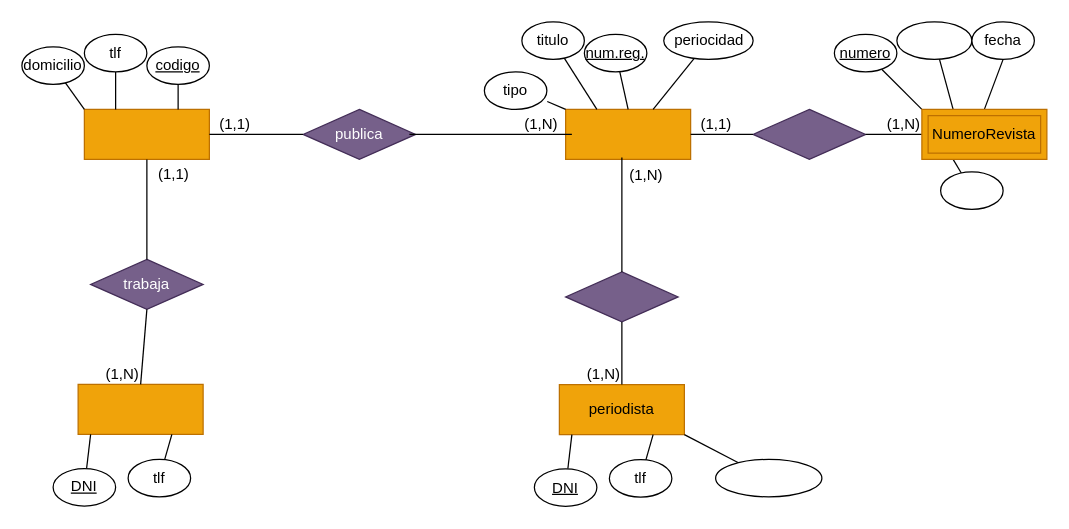
The diagram is 1069 pixels wide and 529 high, and some of its shapes have lost their labels. Here are the shapes that lost their labels. From the top down, the box of each, then its label:
(896, 21, 972, 59): ejemplares
(83, 108, 209, 159): sucursal
(564, 108, 691, 159): revista
(752, 108, 866, 159): incluye
(939, 171, 1003, 209): paginas
(564, 271, 678, 322): escribe
(77, 383, 203, 434): empleado
(714, 458, 822, 497): especialidad
